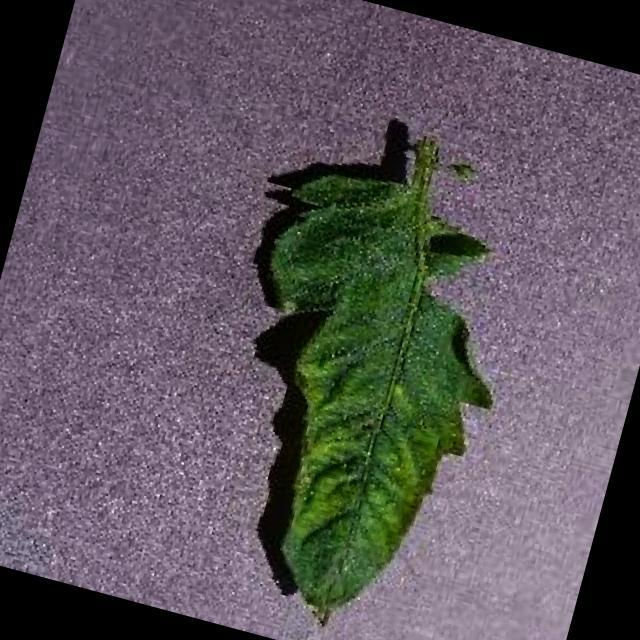Tomato mosaic virus leaf: (175, 147, 545, 640)
